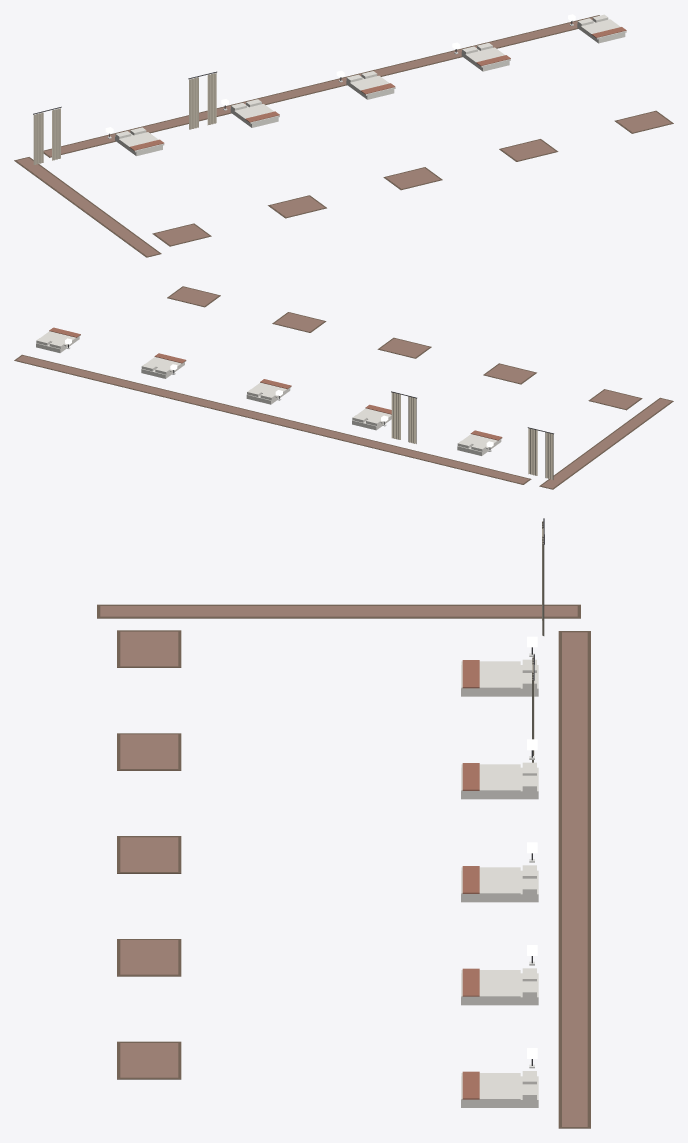
File: fine-s3.glb
3 renders of one model, top to bottom at view 1: azimuth 30°, elevation 25°; view 2: azimuth 150°, elevation 25°; view 3: azimuth 270°, elevation 25°, orthographic. The views are drawn at different scales.
Visible parts, largest first — view 1: soft-s3; view 2: soft-s3; view 3: soft-s3.
Boxes of the visible parts, <box> form: soft-s3: <box>14,14,673,257</box>; soft-s3: <box>14,286,673,489</box>; soft-s3: <box>97,518,590,1128</box>.
Size of the model in its own units: 30.84 by 2.6 by 12.29.
